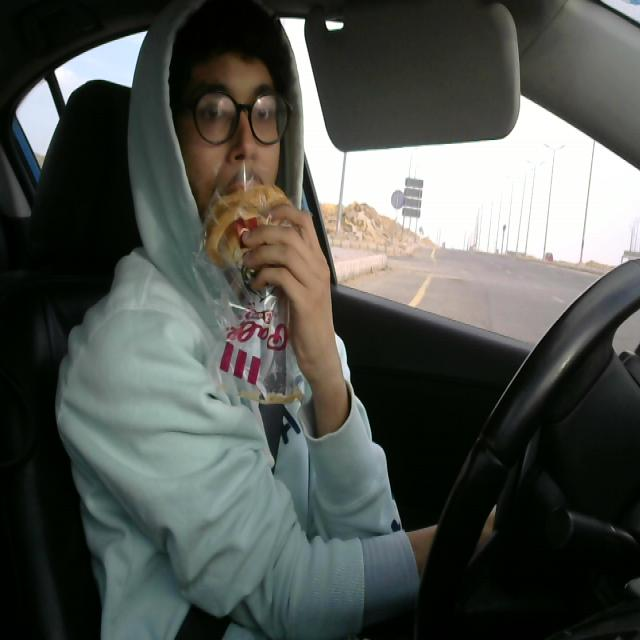eating: (204, 177, 300, 281)
